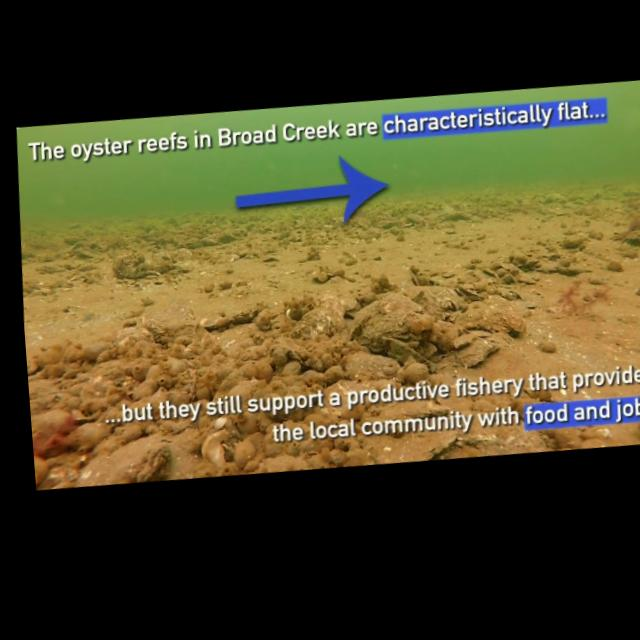Oyster-Closed: (533, 188, 570, 213)
Oyster-Indeterminate: (365, 414, 469, 468), (448, 283, 537, 338), (107, 438, 176, 487), (380, 332, 448, 378), (340, 346, 405, 392), (284, 305, 341, 352), (404, 277, 462, 322), (140, 300, 196, 346), (212, 316, 261, 359), (58, 414, 116, 450), (312, 283, 351, 336), (199, 425, 241, 469), (450, 335, 499, 371), (108, 320, 154, 354), (30, 403, 72, 438), (110, 251, 150, 284), (220, 301, 265, 328), (192, 308, 226, 338), (551, 421, 581, 453), (556, 229, 592, 255), (570, 432, 614, 452), (436, 204, 475, 225), (491, 282, 526, 305), (536, 334, 563, 363), (34, 451, 54, 490), (29, 388, 60, 413), (69, 403, 104, 425), (73, 244, 108, 264), (532, 257, 562, 280), (60, 229, 89, 250), (620, 225, 640, 255), (146, 244, 173, 266), (332, 211, 360, 231), (549, 248, 574, 270), (510, 266, 536, 287), (403, 207, 428, 228), (354, 225, 383, 243), (579, 422, 608, 440), (479, 262, 503, 282), (215, 230, 240, 248), (604, 257, 626, 277), (508, 250, 532, 268), (499, 258, 522, 276), (216, 253, 241, 269), (626, 207, 640, 234), (228, 242, 249, 259), (245, 246, 270, 260), (377, 217, 402, 230), (495, 266, 514, 282), (27, 357, 40, 377), (200, 235, 217, 250), (147, 260, 168, 272), (183, 236, 202, 249), (67, 221, 85, 234), (165, 214, 181, 228), (228, 250, 239, 263), (636, 283, 640, 300)
Oyster-Open: (346, 292, 423, 349), (162, 260, 192, 276), (146, 269, 161, 279)
